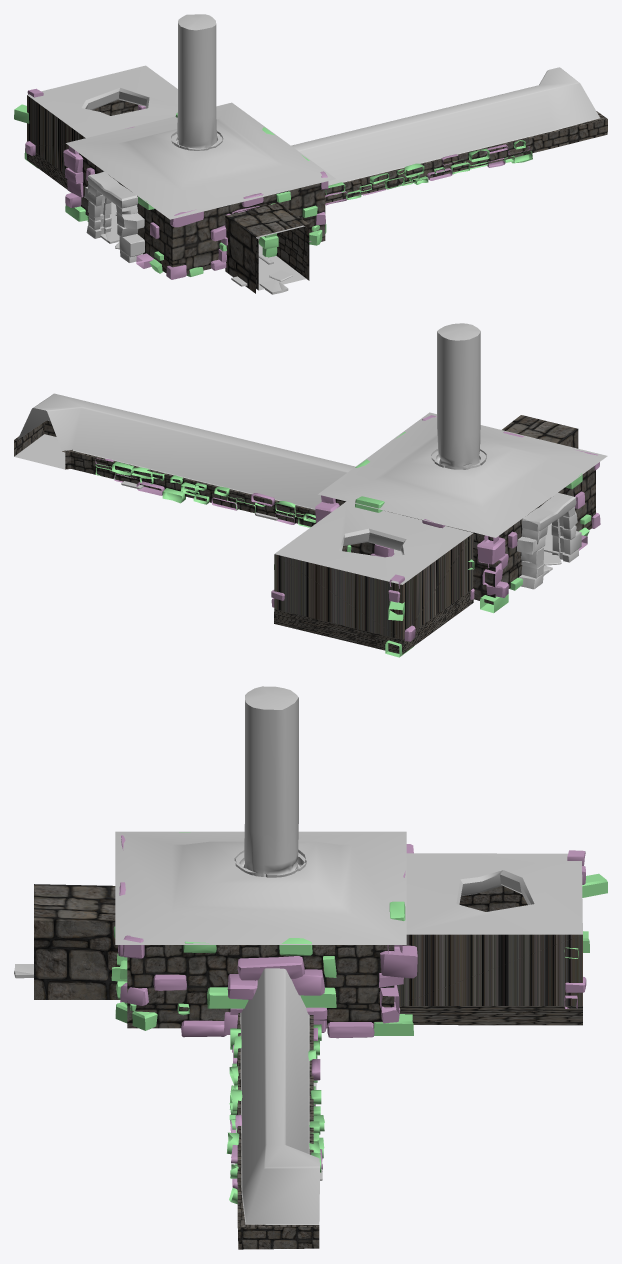
File: Tomb2_RCenter.FBX
The picture shows the model from 3 angles, top to bottom: view 1: azimuth 30°, elevation 25°; view 2: azimuth 150°, elevation 25°; view 3: azimuth 270°, elevation 25°; orthographic projection. The views are drawn at different scales.
Visible parts, largest first — view 1: TombR_CenterR5, Tomb_AlleyR5, GofRockFirstAlley001; view 2: TombR_CenterR5, Tomb_AlleyR5, GofRockFirstAlley001; view 3: TombR_CenterR5, Tomb_AlleyR5, GofRockFirstAlley001.
Part boxes in pixels (x1,y1,x2,y2): TombR_CenterR5: (14,14,335,294); Tomb_AlleyR5: (291,67,607,203); GofRockFirstAlley001: (325,140,532,205); TombR_CenterR5: (271,323,607,657); Tomb_AlleyR5: (14,393,355,526); GofRockFirstAlley001: (95,458,315,527); TombR_CenterR5: (14,686,607,1038); Tomb_AlleyR5: (237,968,319,1249); GofRockFirstAlley001: (226,1024,324,1204).
Bounding box in the file's own units: 3688 × 1511 × 2772.
